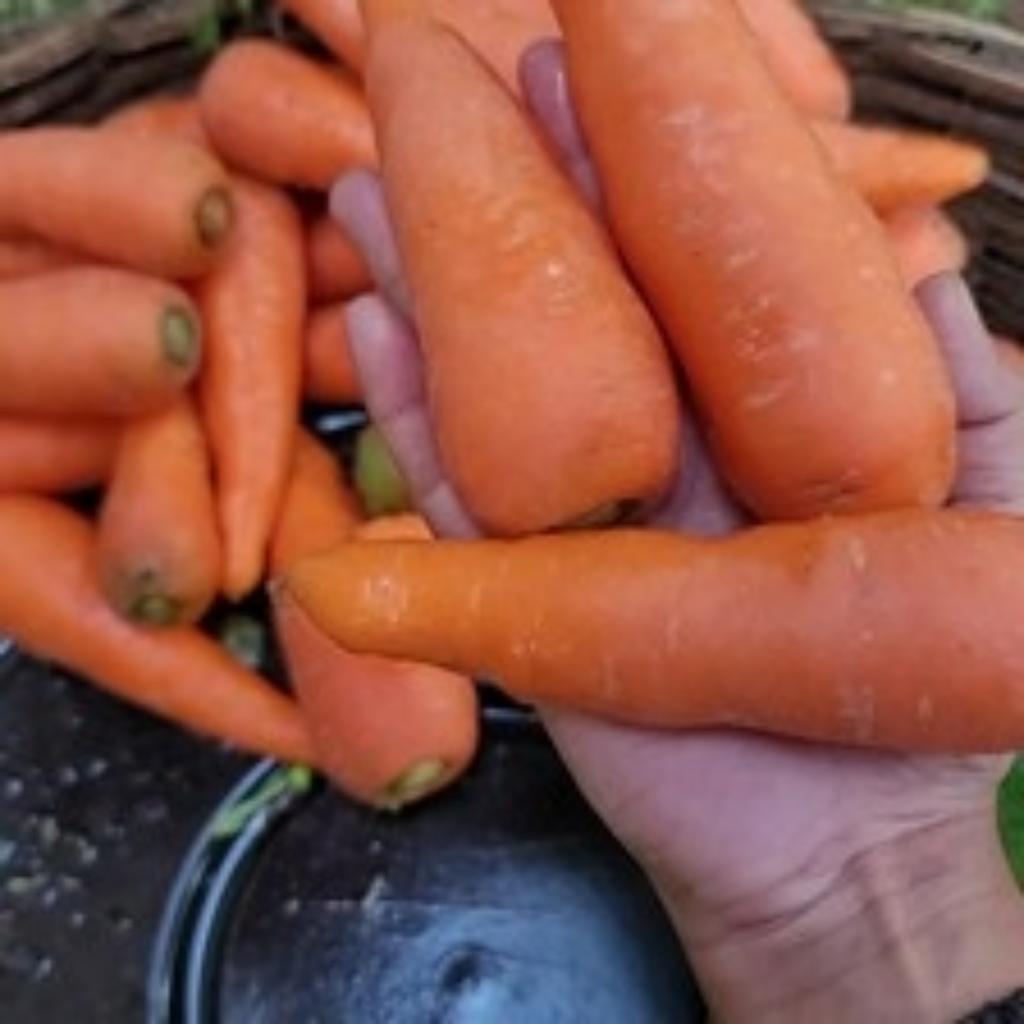carrot: (0, 0, 1015, 795), (283, 507, 1015, 741)
